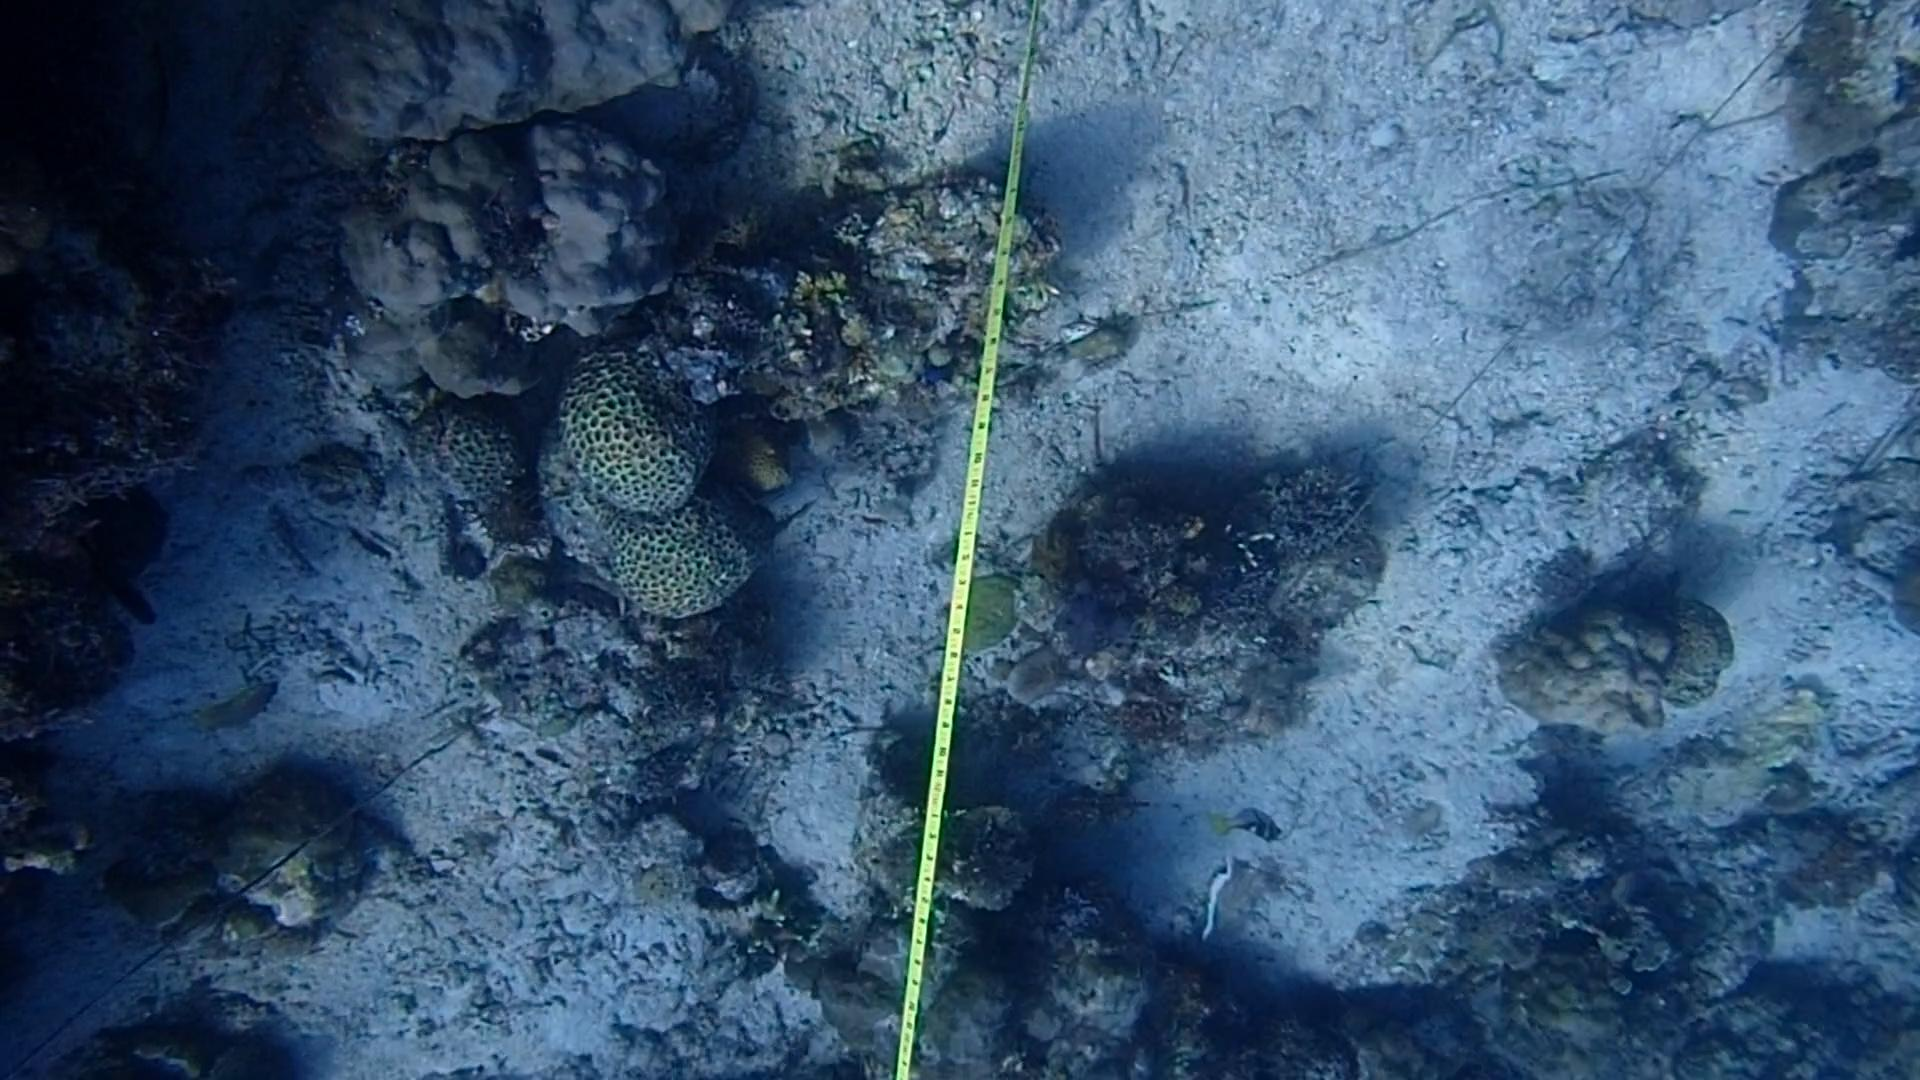Striped Fish: (1216, 798, 1295, 849)
